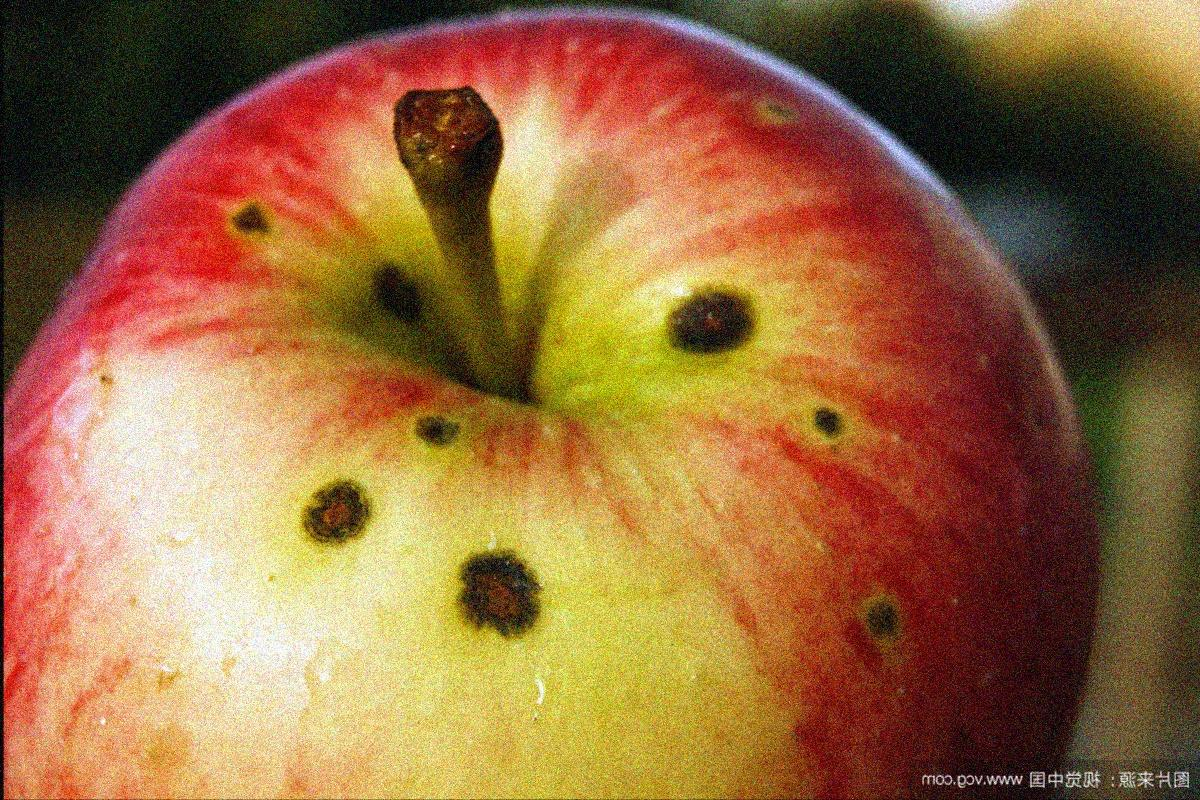rotten apple: (3, 0, 1099, 799)
